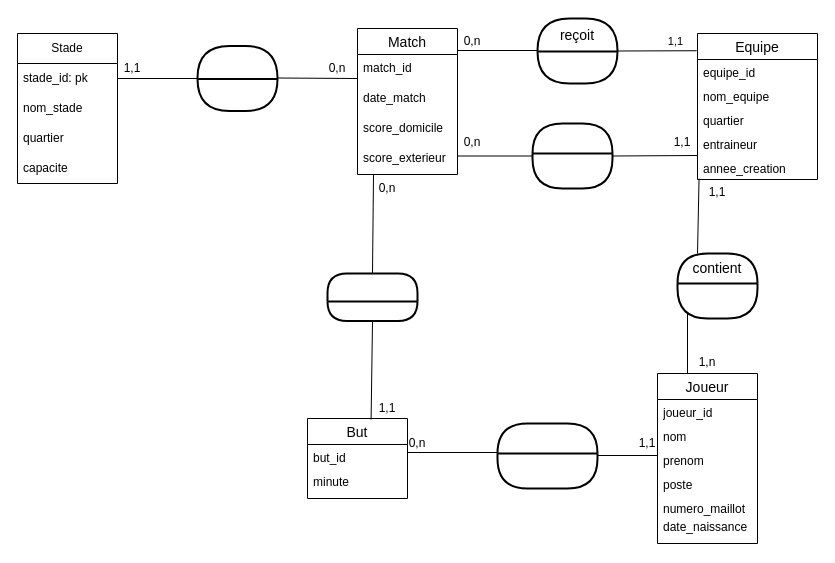
The diagram is 835 pixels wide and 563 high, and some of its shapes have lost their labels. The centre of each missing label's shape, as x and y in pixels:
faire partie: pixel 372 297
marquer: pixel 547 455
se déplacer: pixel 572 155
se jouer: pixel 237 78
